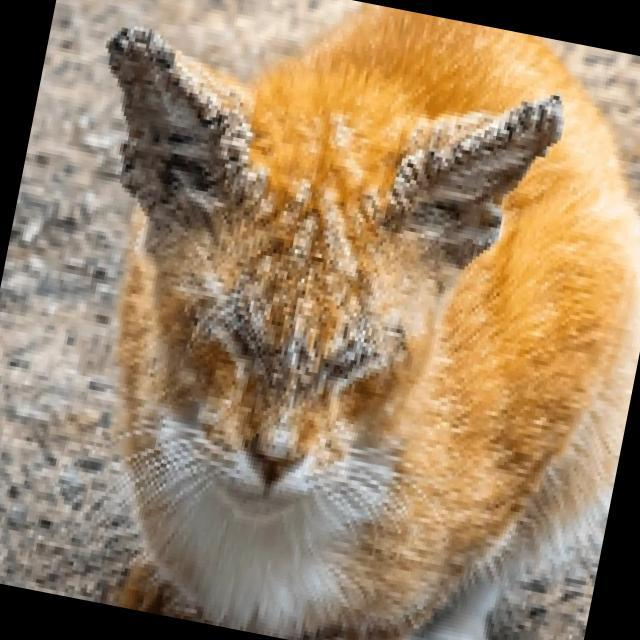Mange: (379, 89, 569, 273), (98, 27, 262, 217), (310, 317, 368, 391), (220, 280, 274, 354), (327, 183, 361, 269), (343, 334, 395, 382), (283, 168, 315, 222), (326, 104, 362, 148), (293, 216, 322, 266)
